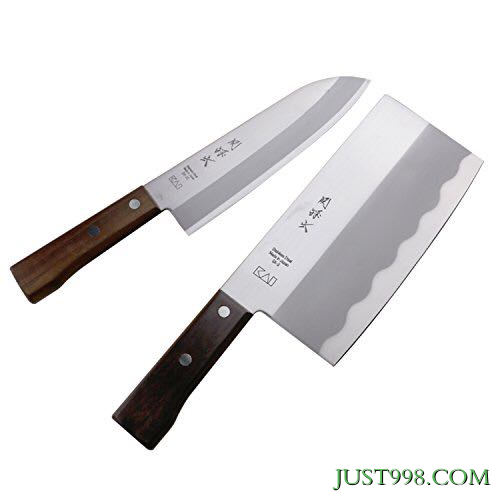knief: (114, 62, 476, 450)
